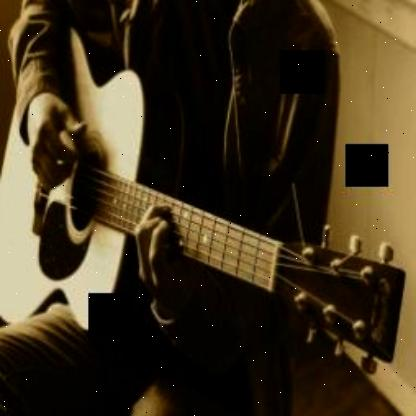acousticguitar: (0, 24, 406, 374)
